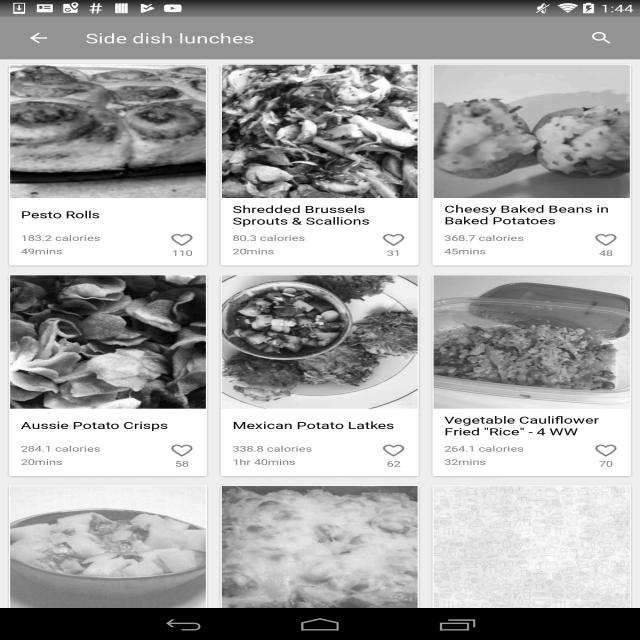Button: (8, 332, 318, 364), (322, 332, 632, 364), (8, 366, 318, 398), (322, 366, 632, 398)
ImageButton: (9, 17, 68, 59)
ImageView: (0, 59, 640, 326), (3, 406, 317, 606), (323, 406, 637, 606), (433, 275, 630, 409), (10, 275, 206, 409), (433, 65, 630, 198), (433, 486, 630, 619), (222, 275, 417, 409), (10, 65, 206, 198), (10, 486, 206, 619), (222, 65, 417, 198), (222, 486, 417, 619)
TextView: (3, 566, 317, 606), (323, 566, 637, 606), (0, 286, 640, 299), (232, 198, 407, 231), (444, 198, 619, 231), (232, 409, 407, 442), (444, 409, 619, 442), (21, 198, 195, 231), (21, 409, 195, 442), (86, 29, 254, 47), (232, 231, 376, 245), (444, 231, 588, 245), (232, 455, 376, 469), (444, 455, 588, 469), (21, 231, 164, 245), (21, 455, 164, 469), (572, 22, 631, 54), (232, 245, 376, 258), (444, 245, 588, 258), (232, 442, 376, 455), (444, 442, 588, 455), (21, 245, 164, 258), (21, 442, 164, 455), (163, 231, 200, 258), (163, 442, 200, 469), (376, 231, 412, 258), (588, 231, 624, 258), (376, 442, 412, 469), (588, 442, 624, 469)
